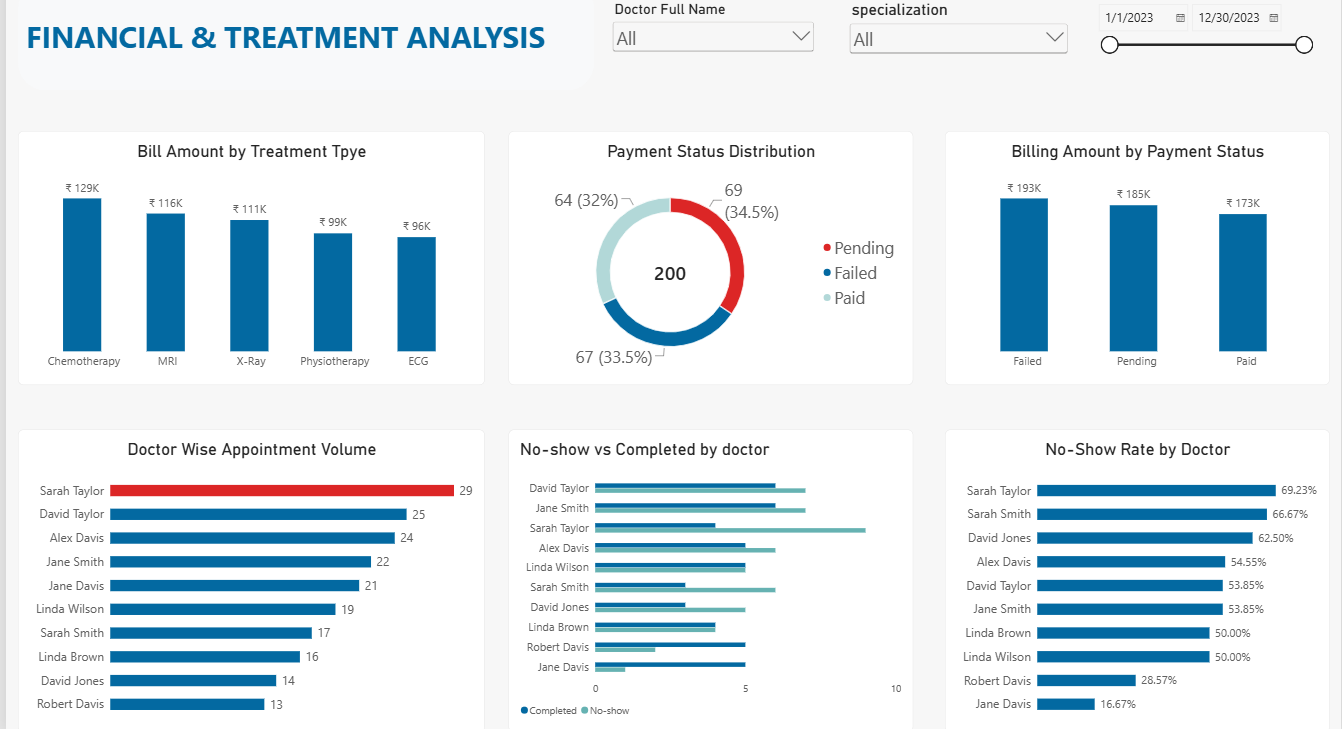

This screenshot's page, from the dashboard's own definition file:
{"tool":"powerbi","page":{"name":"Financial & Treatment analysis","canvas":[1920,1080],"ordinal":1},"visuals":[{"type":"shape","box":[17.5,0,828.8,157.4],"z":0},{"type":"clusteredColumnChart","title":"Bill Amount by Treatment Tpye","fields":{"Category":["treatments.treatment_type"],"Y":["Sum(billing.amount)"]},"box":[17.5,216.5,671.3,365.2],"z":1},{"type":"donutChart","title":"Payment Status Distribution","fields":{"Category":["billing.payment_status"],"Y":["CountNonNull(billing.bill_id)"]},"box":[721.6,216.5,581.7,365.2],"z":2},{"type":"clusteredColumnChart","title":"Billing Amount by Payment Status","fields":{"Category":["billing.payment_status"],"Y":["Sum(billing.amount)"]},"box":[1351.4,216.5,553.3,365.2],"z":3},{"type":"clusteredBarChart","title":"Doctor Wise Appointment Volume","fields":{"Category":["doctors.Doctor Full Name"],"Y":["CountNonNull(appointments.appointment_id)"]},"box":[17.5,645.1,671.3,435.2],"z":4},{"type":"clusteredBarChart","title":"No-show vs Completed by doctor","fields":{"Category":["doctors.Doctor Full Name"],"Series":["appointments.status"],"Y":["CountNonNull(appointments.appointment_id)"]},"box":[721.6,645.1,582,435],"z":5},{"type":"clusteredBarChart","title":"No-Show Rate by Doctor","fields":{"Category":["doctors.Doctor Full Name"],"Y":["Measure Table.No-show Rate %"]},"box":[1351,645,553,435],"z":6},{"type":"slicer","fields":{"Values":["doctors.Doctor Full Name"]},"box":[868.2,28.4,299.6,96.2],"z":7},{"type":"slicer","fields":{"Values":["doctors.specialization"]},"box":[1207.1,28.4,323.6,96.2],"z":8},{"type":"slicer","fields":{"Values":["appointments.appointment_date"]},"box":[1563.6,28.4,319.3,96.2],"z":9}]}

Visuals, with their boxes on the page's 1920x1080 design canvas (x1, y1, x2, y2). These are canvas units, not pixel positions in the 1342x729 screenshot, which may show the page scaled, cropped or inside an application window:
shape: bbox=[18, 0, 846, 157]
"Bill Amount by Treatment Tpye" clusteredColumnChart: bbox=[18, 216, 689, 582]
"Payment Status Distribution" donutChart: bbox=[722, 216, 1303, 582]
"Billing Amount by Payment Status" clusteredColumnChart: bbox=[1351, 216, 1905, 582]
"Doctor Wise Appointment Volume" clusteredBarChart: bbox=[18, 645, 689, 1080]
"No-show vs Completed by doctor" clusteredBarChart: bbox=[722, 645, 1304, 1080]
"No-Show Rate by Doctor" clusteredBarChart: bbox=[1351, 645, 1904, 1080]
slicer - doctors.Doctor Full Name: bbox=[868, 28, 1168, 125]
slicer - doctors.specialization: bbox=[1207, 28, 1531, 125]
slicer - appointments.appointment_date: bbox=[1564, 28, 1883, 125]
